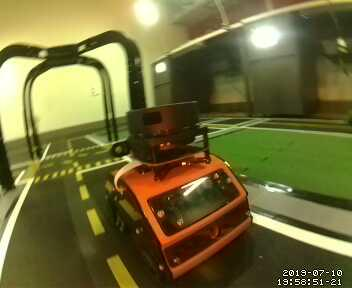pheeno: (100, 99, 255, 286)
